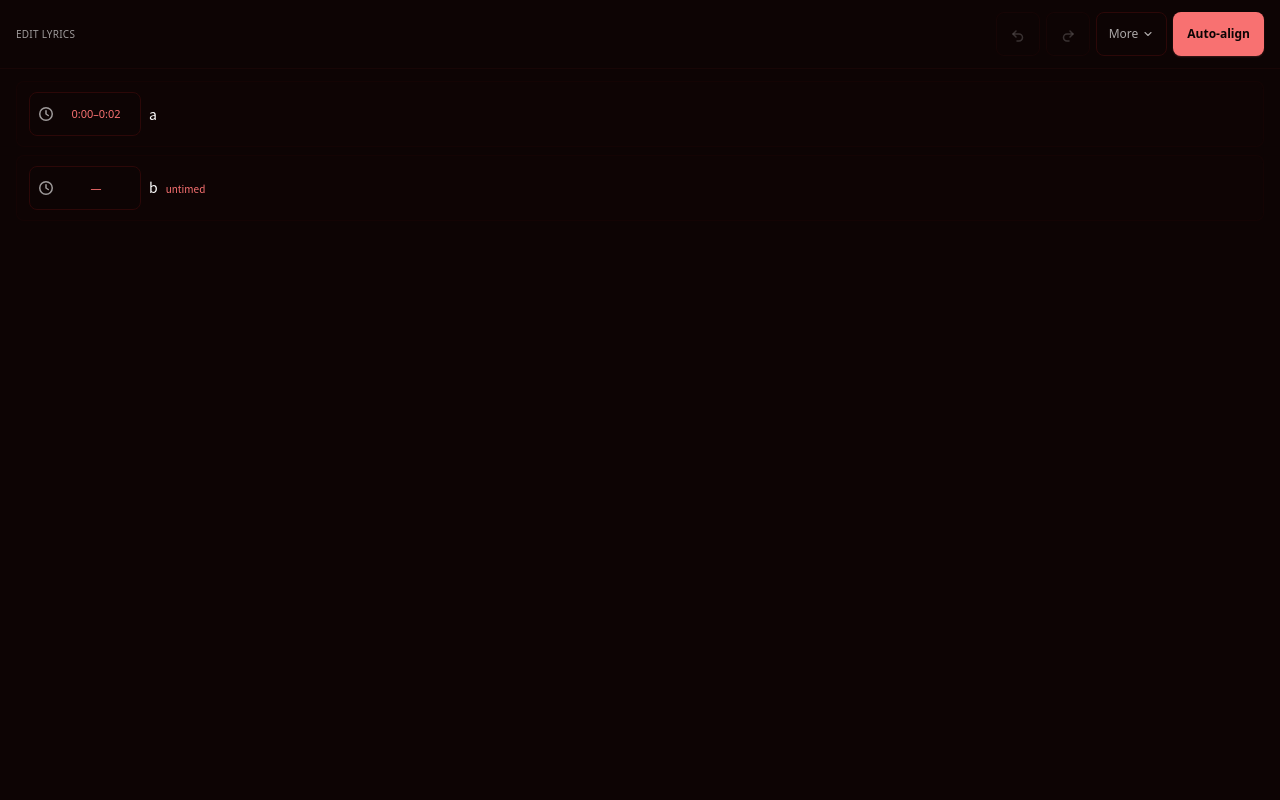
Test: EditMode › opens the second-language panel from the More menu
Click the button "More" at (1131, 34), box x1=1096 y1=12 x2=1167 y2=56
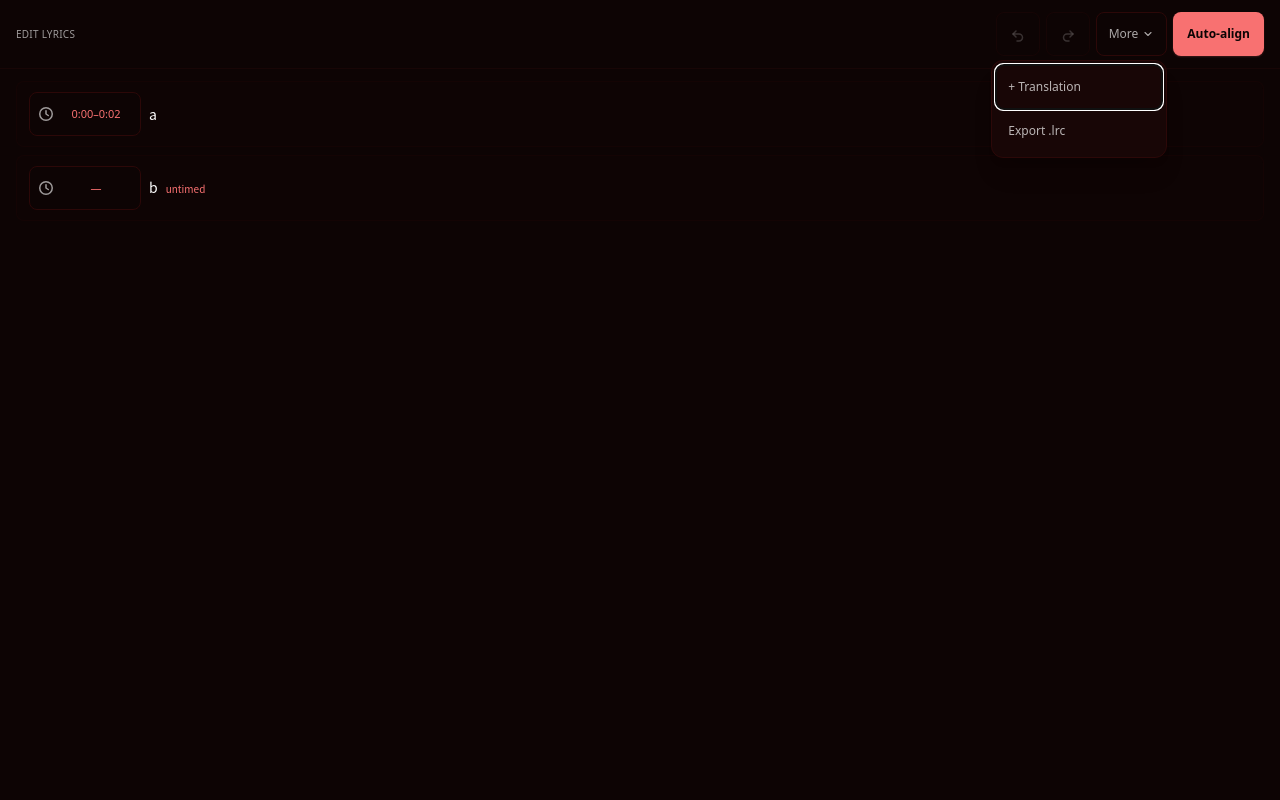
Click the button "+ Translation" at (1079, 87), box x1=996 y1=65 x2=1162 y2=109
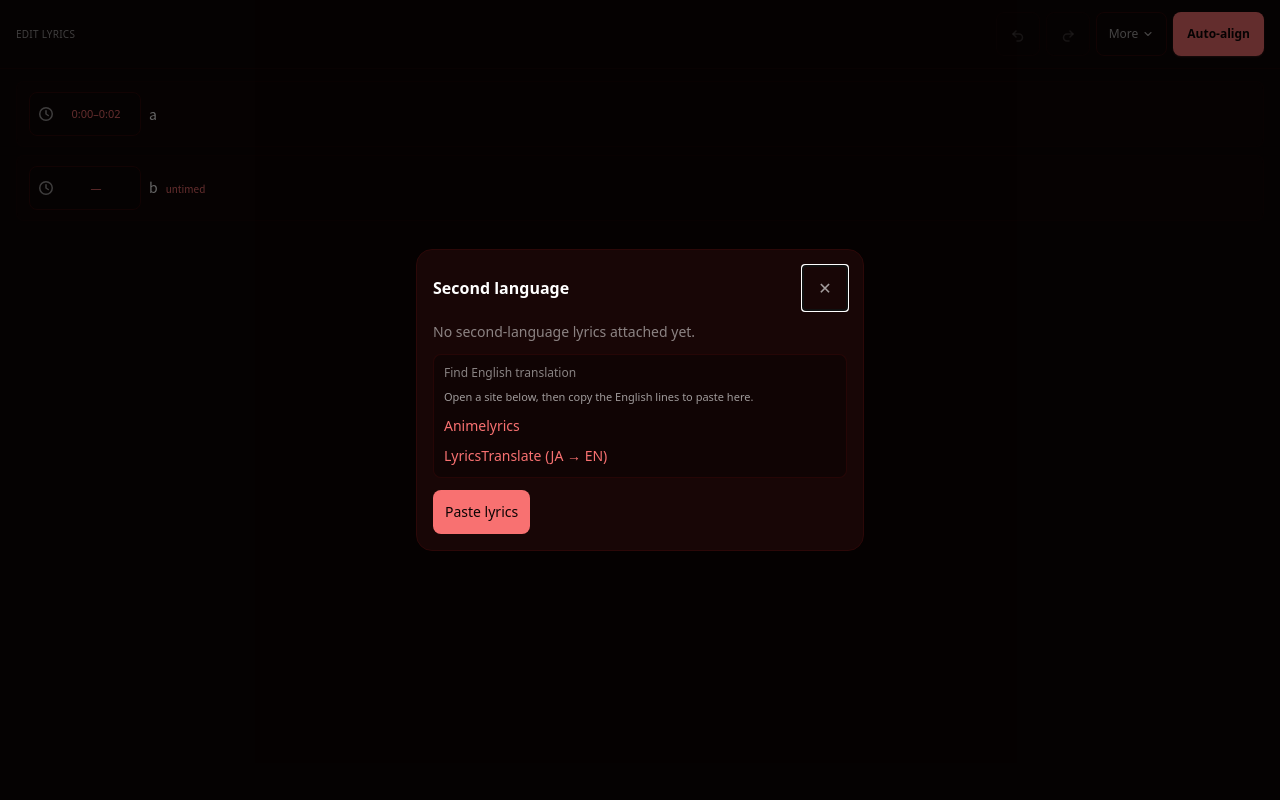
expect the heading "Second language" is shown: met, box x1=433 y1=276 x2=569 y2=300
